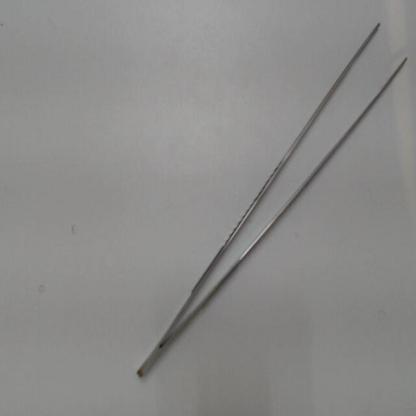DeBakey Dissector: (117, 19, 411, 397)
